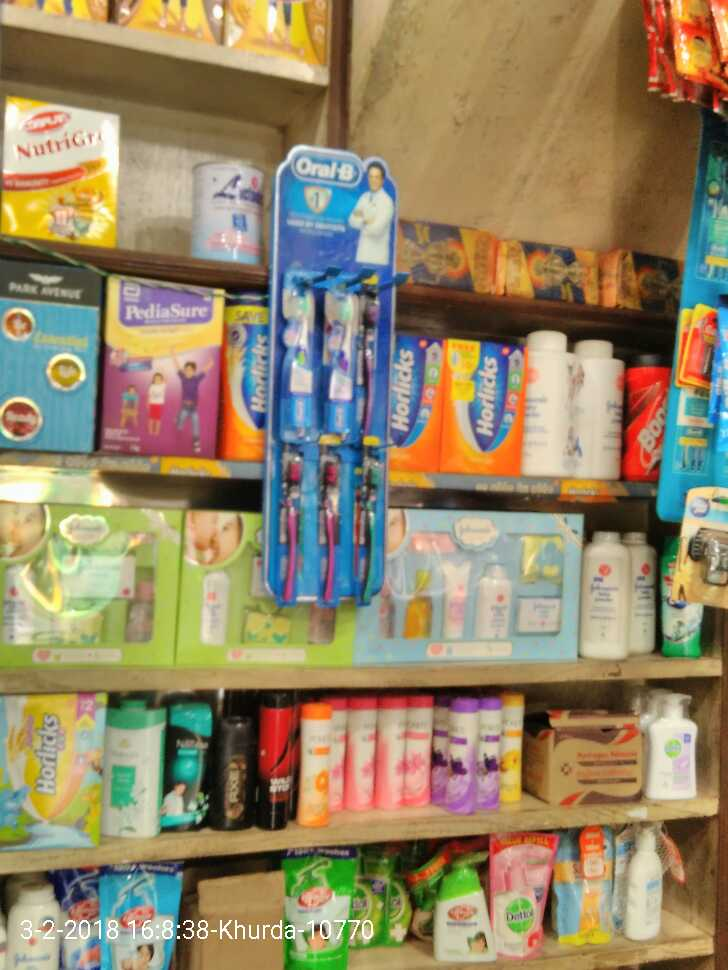oralb: (323, 271, 357, 436), (282, 272, 315, 429), (277, 442, 303, 603), (317, 443, 341, 608), (359, 444, 379, 609)
